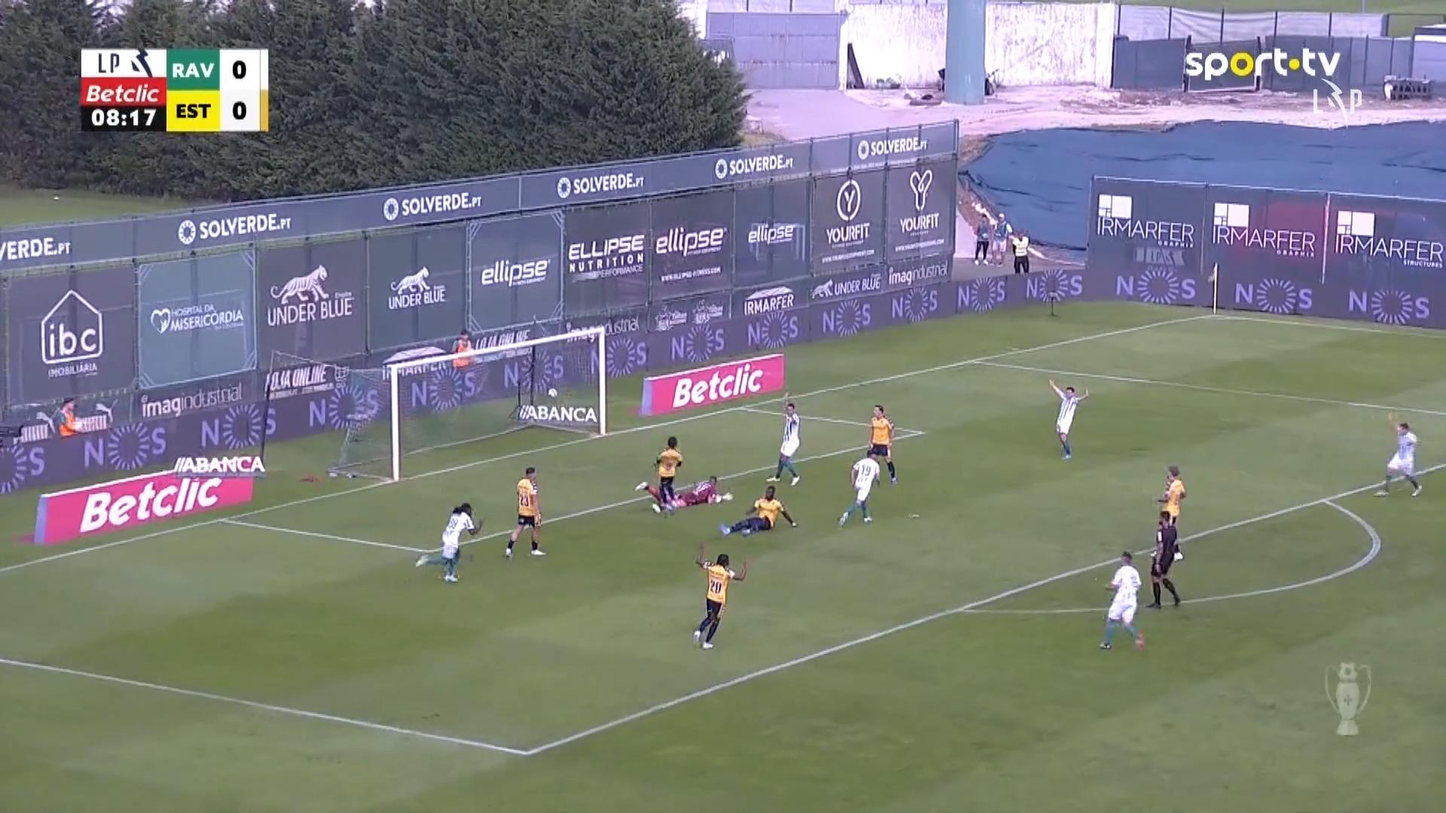ball: (547, 387, 557, 397)
goalkeeper: (633, 475, 732, 516)
player: (691, 542, 749, 649), (414, 501, 483, 583), (1098, 550, 1145, 650), (1373, 407, 1423, 497), (719, 484, 798, 537), (503, 465, 547, 559), (1047, 377, 1089, 459), (837, 449, 881, 526), (1153, 464, 1186, 560), (765, 400, 801, 486), (867, 403, 898, 486), (654, 435, 683, 514), (751, 484, 797, 529), (633, 480, 677, 516), (991, 212, 1011, 265), (972, 213, 991, 264), (1010, 228, 1030, 273)
referee: (1143, 508, 1182, 608)
